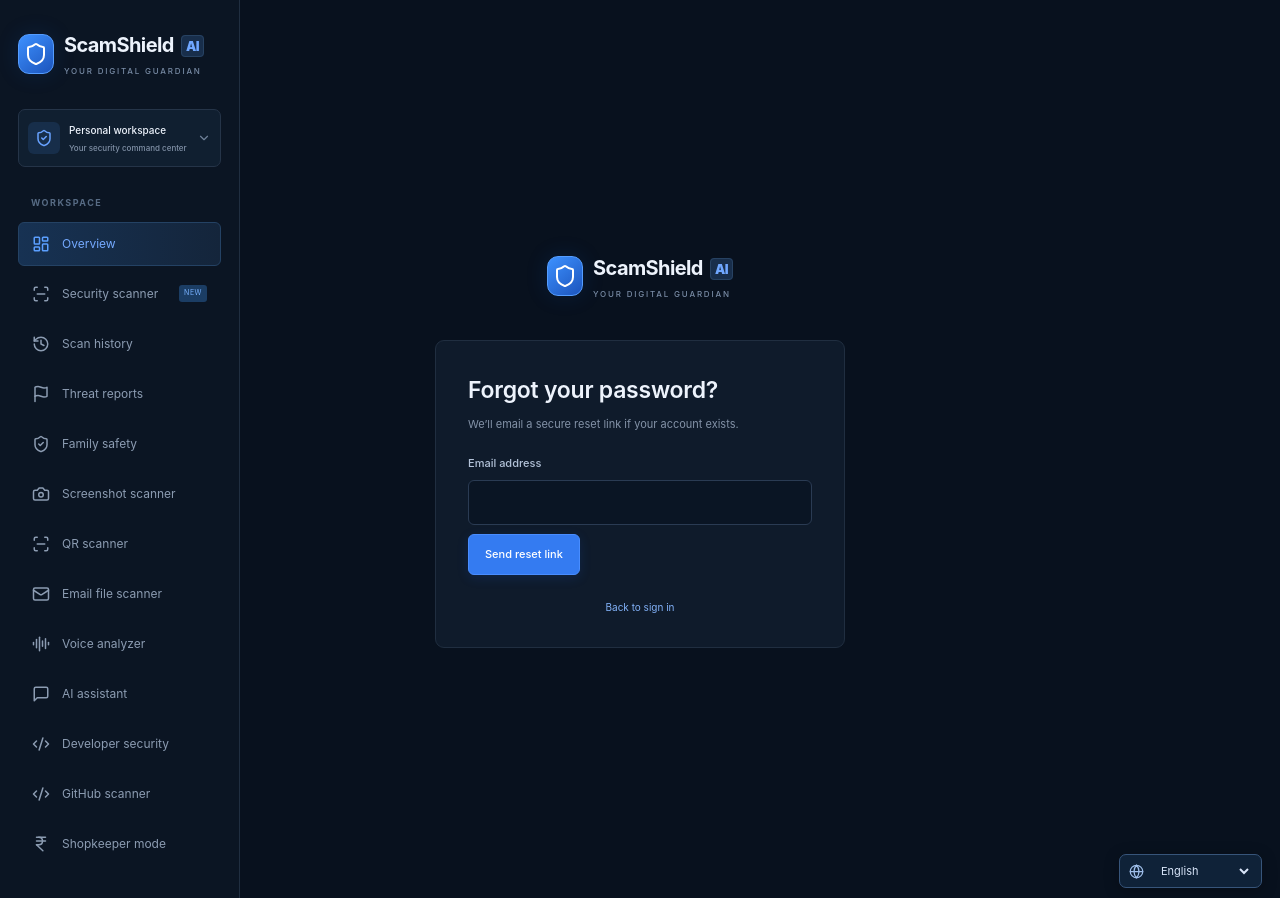
account forms › does not simulate email reset when SMTP is missing
The width and height of the screenshot is (1280, 898).
(page scrolled)
Type "person@example.com" into the field labelled "Email address".
click(640, 503); type("person@example.com")  # box [468,480,812,525]
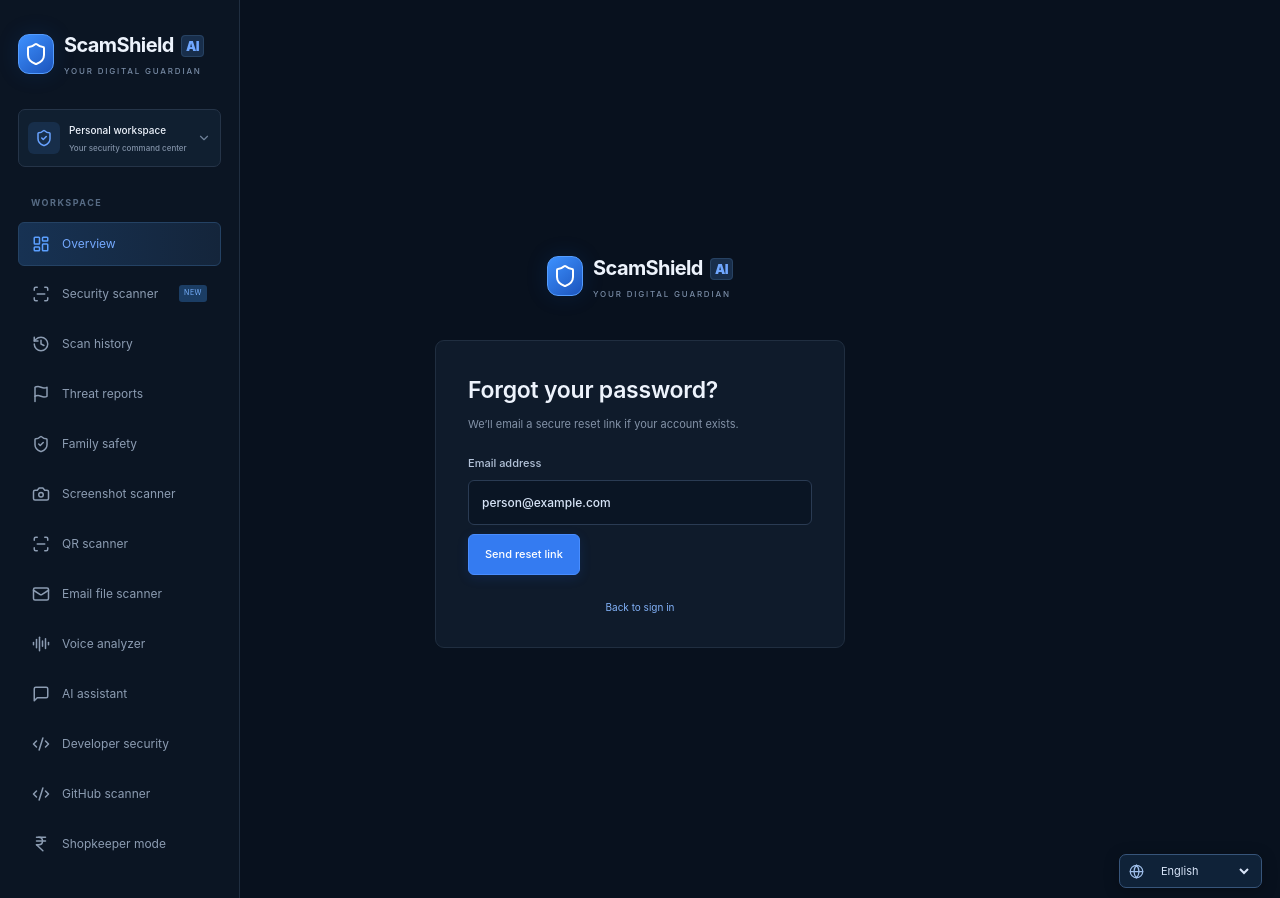
Click the button "Send reset link".
click(524, 555)  # box [468,534,580,575]
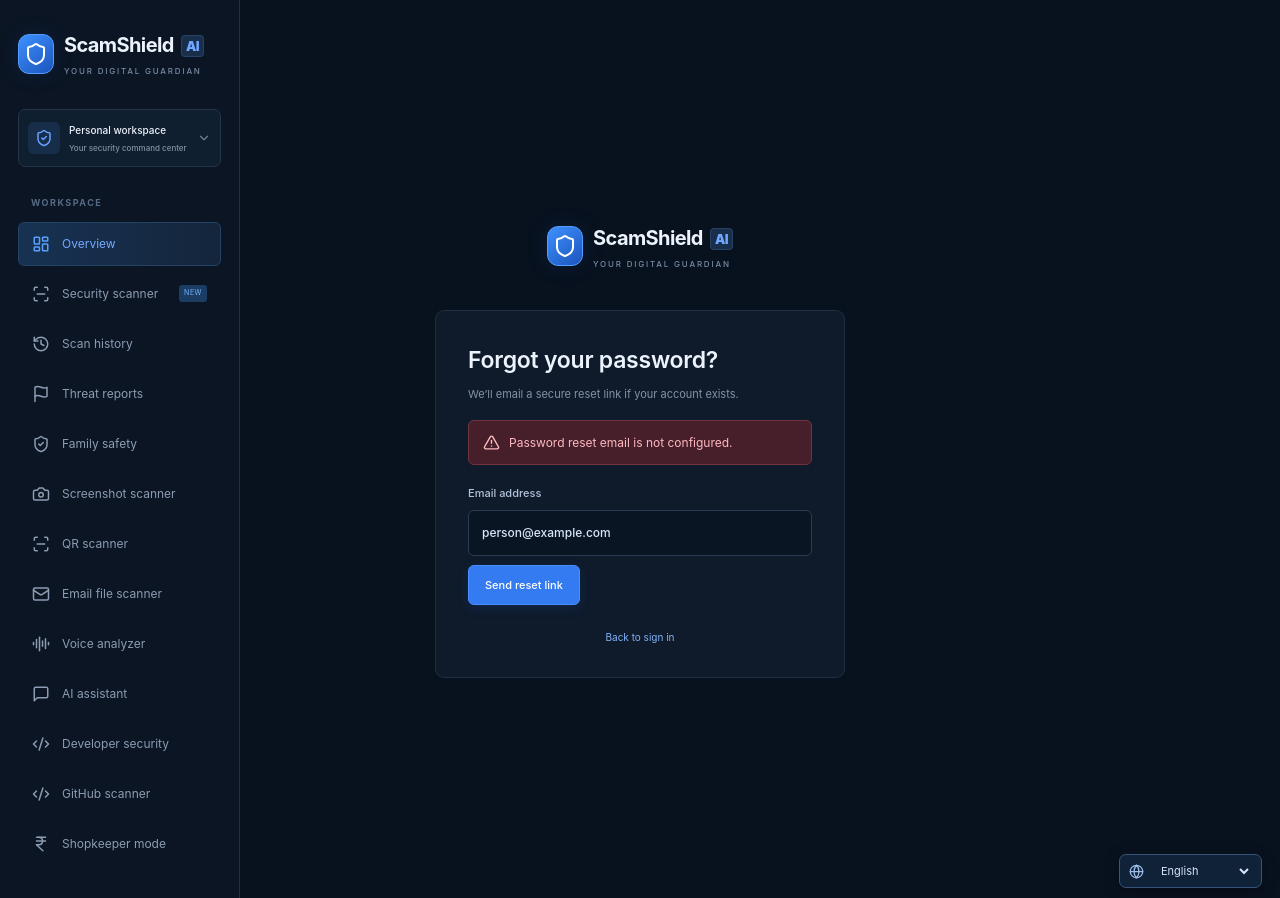
Check: the message shows "not configured", box [509,435,733,450]
